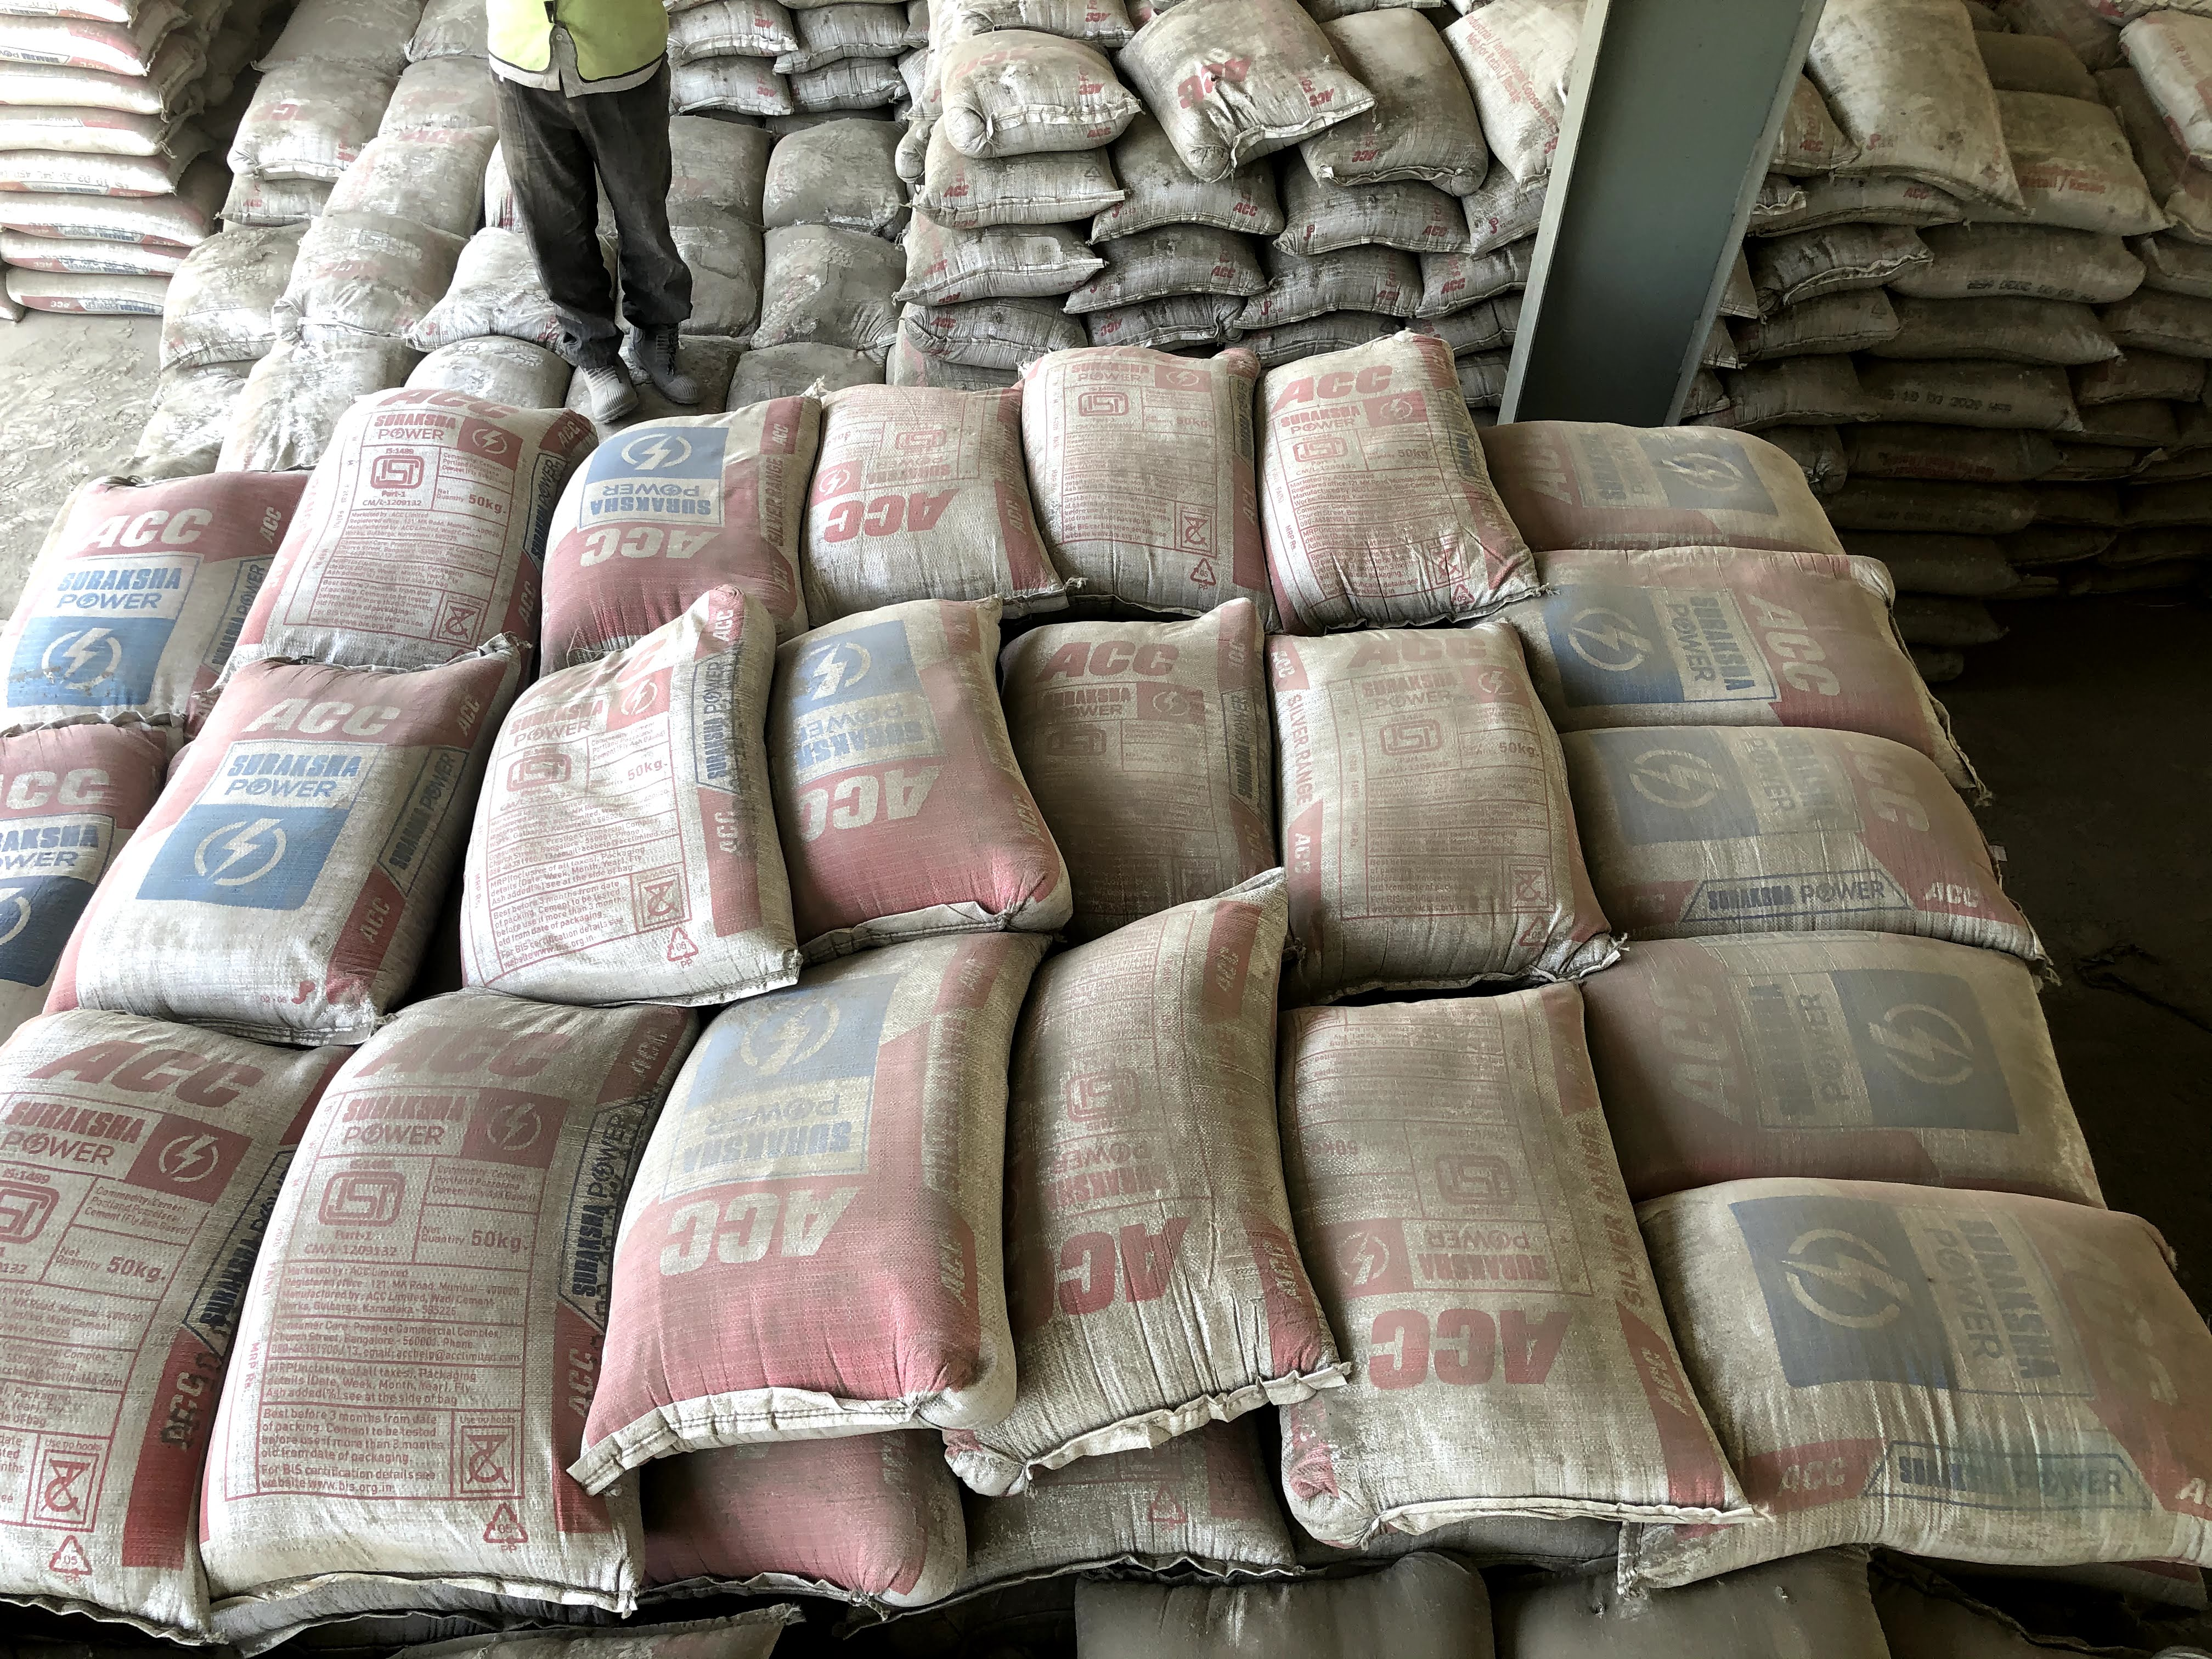cement bag: (998, 946, 1327, 1563), (611, 946, 998, 1420), (294, 993, 618, 1549), (1327, 953, 1599, 1563), (30, 1019, 287, 1574), (98, 669, 465, 995), (1038, 599, 1310, 1012), (1270, 619, 1599, 953), (465, 669, 799, 932), (799, 599, 1038, 932), (514, 383, 766, 655), (1244, 364, 1534, 579), (766, 383, 1061, 592), (303, 420, 514, 655), (1061, 364, 1244, 592), (64, 460, 218, 723)
